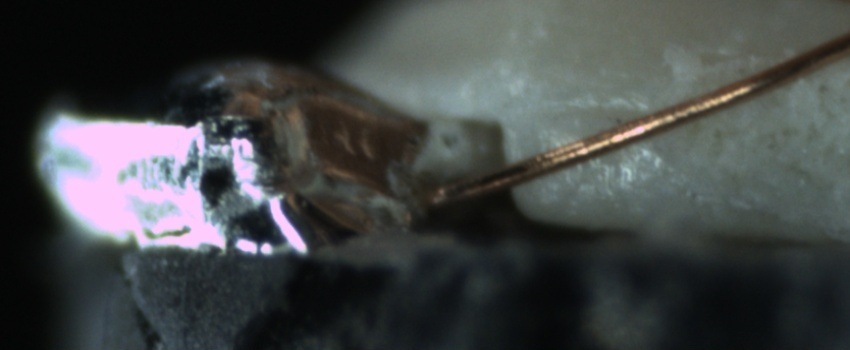DL: (537, 79, 662, 142)
